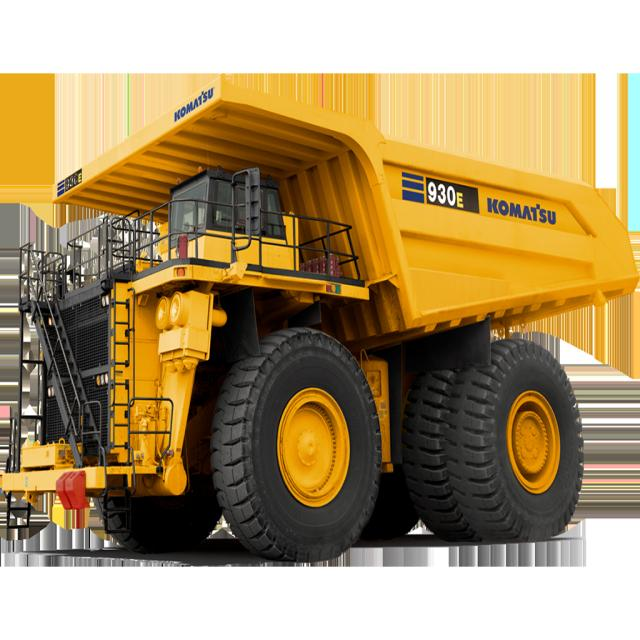dump_truck: (11, 73, 640, 549)
